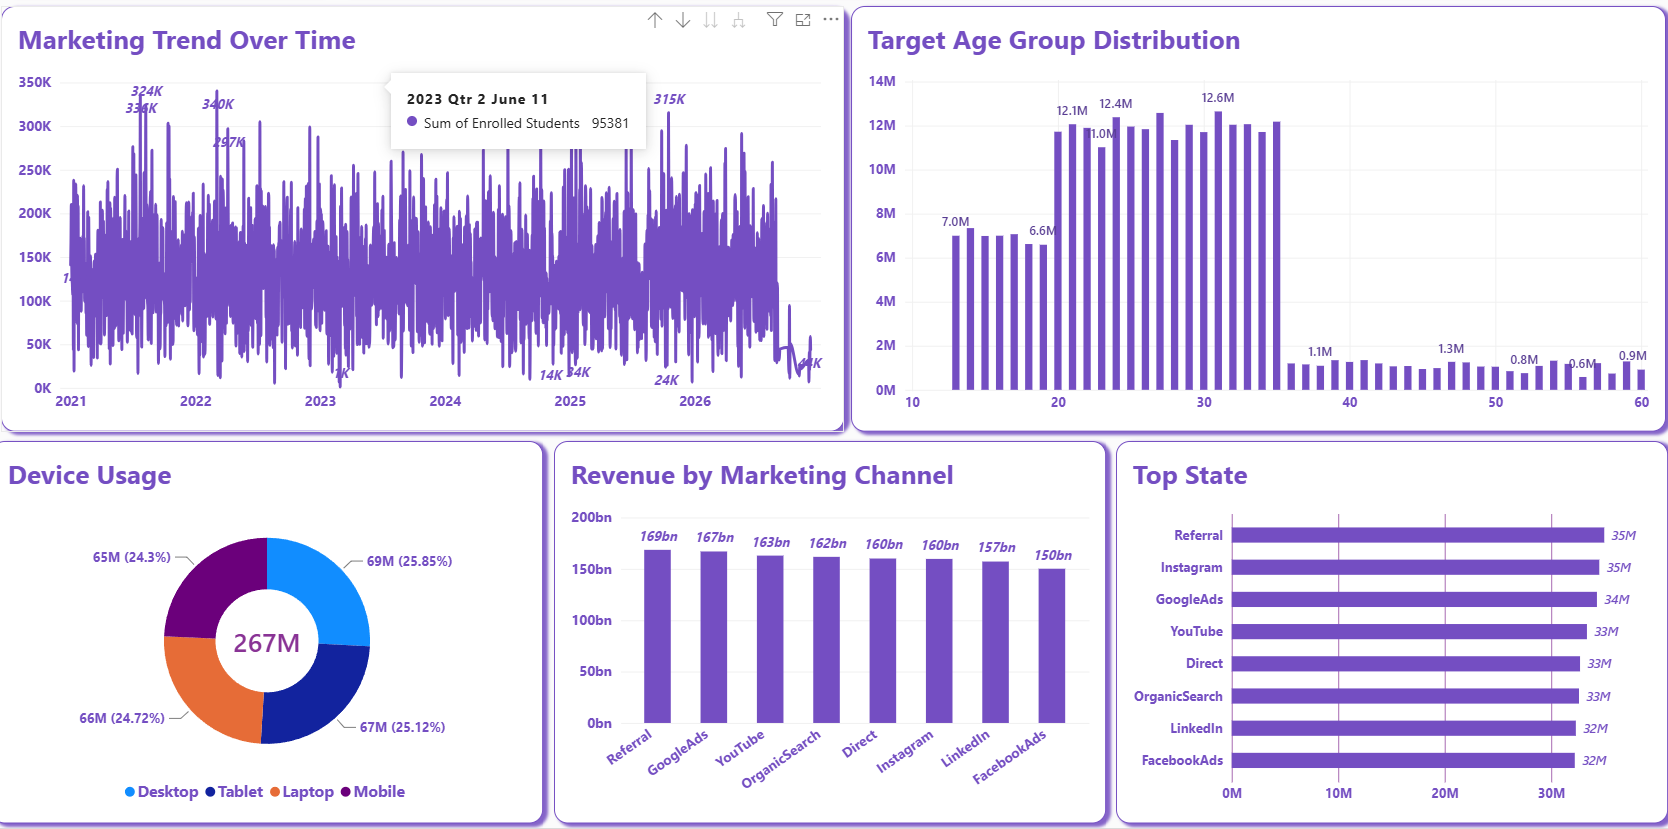

The page's visual inventory and layout, read from the dashboard file:
{"tool":"powerbi","page":{"name":"Student Demographics","canvas":[1920,1080],"ordinal":1},"visuals":[{"type":"shape","box":[0,3.9,1920,63.8],"z":0},{"type":"textbox","box":[250.8,0,918.2,67.9],"z":1000},{"type":"image","box":[0,0,220.4,1074.9],"z":2000},{"type":"image","box":[1336.1,4.2,183.9,40.7],"z":3000},{"type":"slicer","fields":{"Values":["Massive_Transactions_Detailed.Year"]},"box":[17.8,135.8,183.9,314.4],"z":4000},{"type":"clusteredColumnChart","title":"Target Age Group Distribution","fields":{"Category":["Massive_Transactions_Detailed.student age"],"Y":["Sum(Massive_Transactions_Detailed.Enrolled Students)"]},"box":[1086.9,241.7,831,434.4],"z":5000},{"type":"cardVisual","title":"Total Student Enrolled","fields":{"Data":["Sum(Massive_Transactions_Detailed.Enrolled Students)"]},"box":[561.1,77.1,336.1,151.5],"z":6000},{"type":"clusteredColumnChart","title":"Revenue by Marketing Channel","fields":{"Category":["Massive_Transactions_Detailed.Acquisition Source"],"Y":["Sum(Massive_Transactions_Detailed.Estimated Revenue (INR))"]},"box":[783.6,685.2,562.8,389.5],"z":7000},{"type":"clusteredBarChart","title":"Top State","fields":{"Category":["Massive_Transactions_Detailed.Acquisition Source"],"Y":["Sum(Massive_Transactions_Detailed.Enrolled Students)"]},"box":[1357.2,685.2,562.8,389.5],"z":8000},{"type":"textbox","box":[1528.3,11.5,379.2,41.8],"z":9000},{"type":"donutChart","title":"Device Usage","fields":{"Category":["Massive_Transactions_Detailed.Primary Device Used"],"Y":["Sum(Massive_Transactions_Detailed.Enrolled Students)"]},"box":[210,685.2,562.8,389.5],"z":10000},{"type":"cardVisual","title":"Total Student Enrolled","fields":{"Data":["Avg(Massive_Transactions_Detailed.student age)"]},"box":[220.2,77.1,336.1,151.5],"z":11000},{"type":"image","box":[129.2,135.4,72.1,60.6],"z":12000},{"type":"cardVisual","title":"Total Student Enrolled","fields":{"Data":["Count(Massive_Transactions_Detailed.Target State (India))"]},"box":[901.9,77.1,336.1,151.5],"z":13000},{"type":"cardVisual","title":"Total Student Enrolled","fields":{"Data":["Avg(Massive_Transactions_Detailed.discount)"]},"box":[1242.7,77.1,336.1,151.5],"z":14000},{"type":"cardVisual","title":"Total Student Enrolled","fields":{"Data":["Count(Massive_Transactions_Detailed.Acquisition Source)"]},"box":[1583.5,77.1,336.1,151.5],"z":15000},{"type":"lineChart","title":"Marketing Trend Over Time","fields":{"Category":["Massive_Transactions_Detailed.Clean Enrolled date.Variation.Date Hierarchy.Year","Massive_Transactions_Detailed.Clean Enrolled date.Variation.Date Hierarchy.Quarter","Massive_Transactions_Detailed.Clean Enrolled date.Variation.Date Hierarchy.Month","Massive_Transactions_Detailed.Clean Enrolled date.Variation.Date Hierarchy.Day"],"Y":["Sum(Massive_Transactions_Detailed.Enrolled Students)"]},"box":[220.2,241.7,859.6,434.4],"z":15001},{"type":"image","box":[239.6,1,70.4,68.3],"z":15002}]}

Visuals, with their boxes on the page's 1920x1080 design canvas (x1, y1, x2, y2). These are canvas units, not pixel positions in the 1668x829 screenshot, which may show the page scaled, cropped or inside an application window:
shape: bbox=[0, 4, 1920, 68]
textbox: bbox=[251, 0, 1169, 68]
image: bbox=[0, 0, 220, 1075]
image: bbox=[1336, 4, 1520, 45]
slicer - Massive_Transactions_Detailed.Year: bbox=[18, 136, 202, 450]
"Target Age Group Distribution" clusteredColumnChart: bbox=[1087, 242, 1918, 676]
"Total Student Enrolled" cardVisual: bbox=[561, 77, 897, 229]
"Revenue by Marketing Channel" clusteredColumnChart: bbox=[784, 685, 1346, 1075]
"Top State" clusteredBarChart: bbox=[1357, 685, 1920, 1075]
textbox: bbox=[1528, 12, 1908, 53]
"Device Usage" donutChart: bbox=[210, 685, 773, 1075]
"Total Student Enrolled" cardVisual: bbox=[220, 77, 556, 229]
image: bbox=[129, 135, 201, 196]
"Total Student Enrolled" cardVisual: bbox=[902, 77, 1238, 229]
"Total Student Enrolled" cardVisual: bbox=[1243, 77, 1579, 229]
"Total Student Enrolled" cardVisual: bbox=[1584, 77, 1920, 229]
"Marketing Trend Over Time" lineChart: bbox=[220, 242, 1080, 676]
image: bbox=[240, 1, 310, 69]
